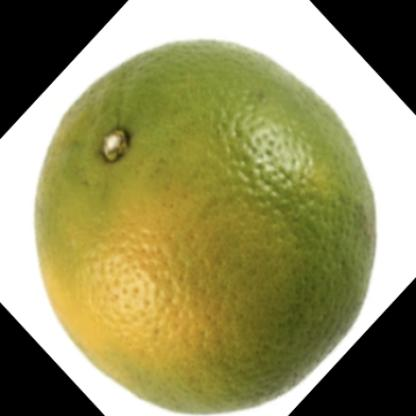fresh: (34, 40, 376, 416)
